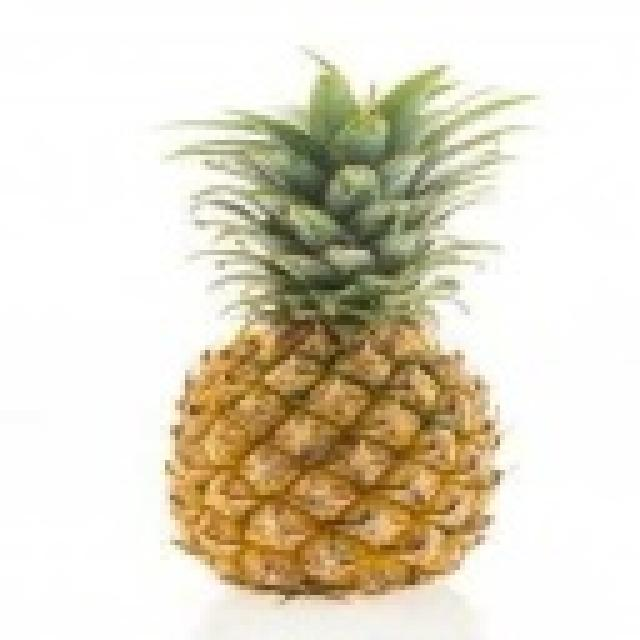Pineapple: (164, 262, 506, 598)
